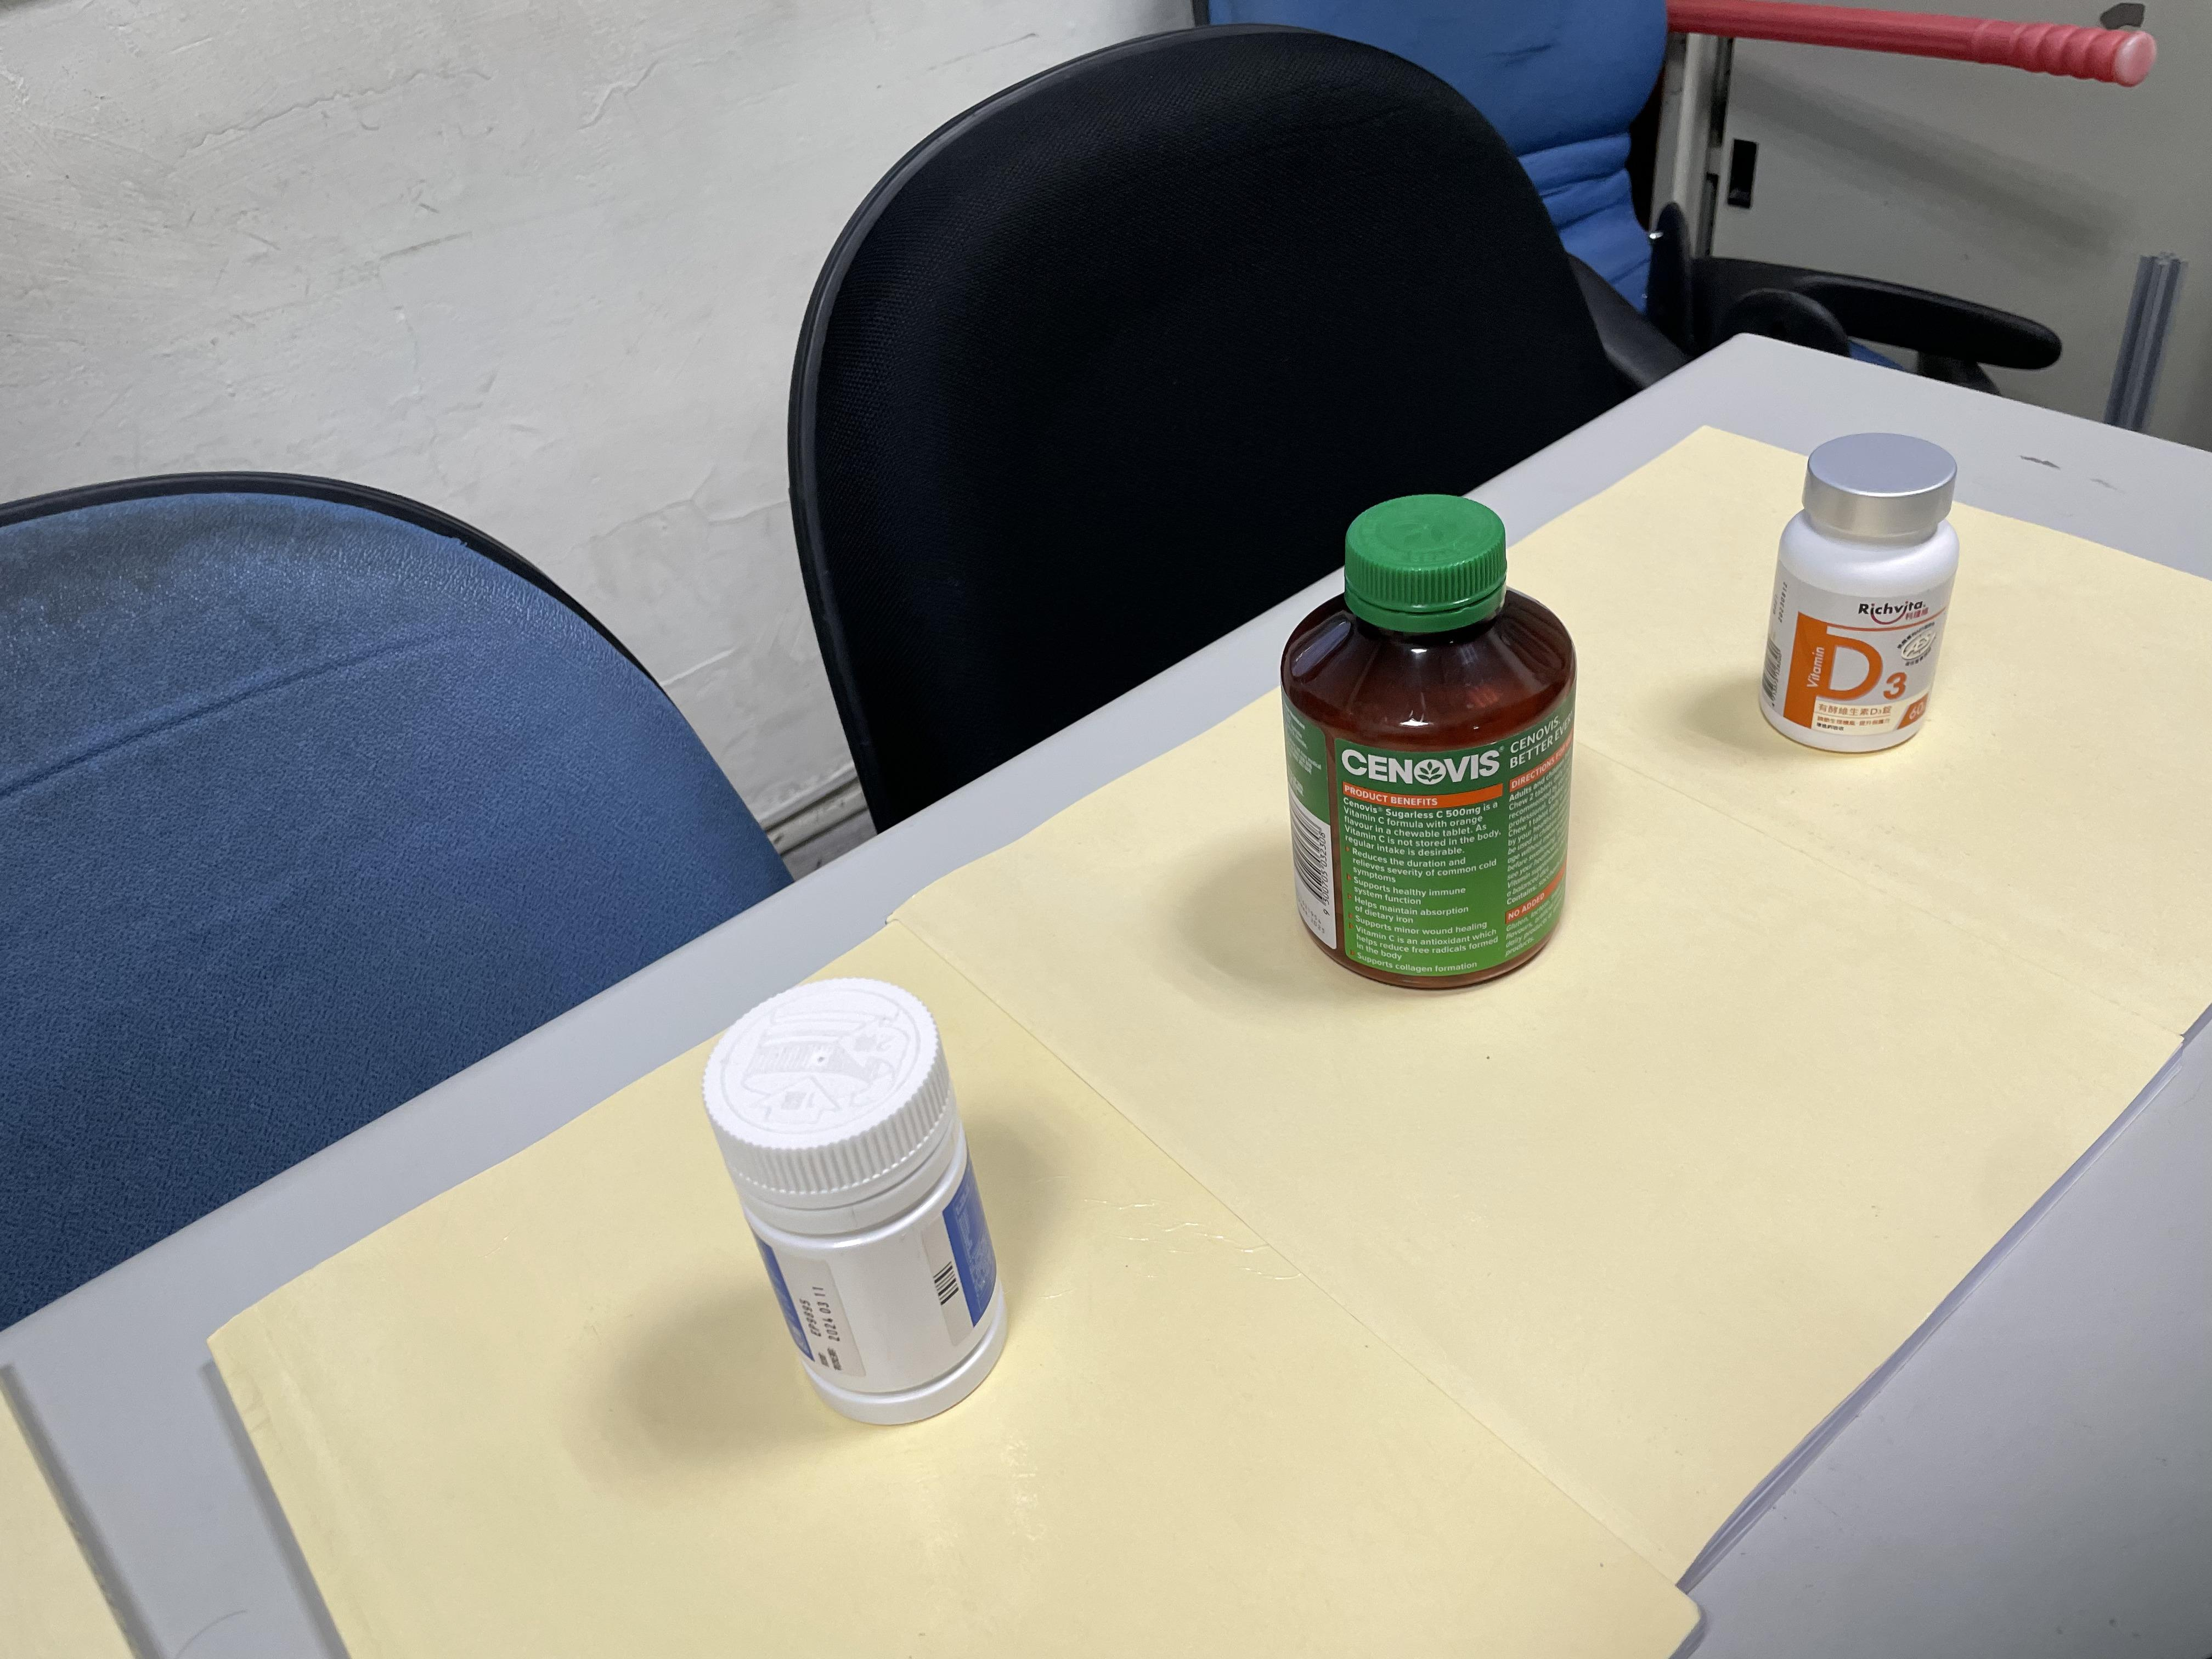jar: (1237, 493, 1613, 1032), (669, 1002, 1042, 1429), (1733, 429, 1975, 775)
